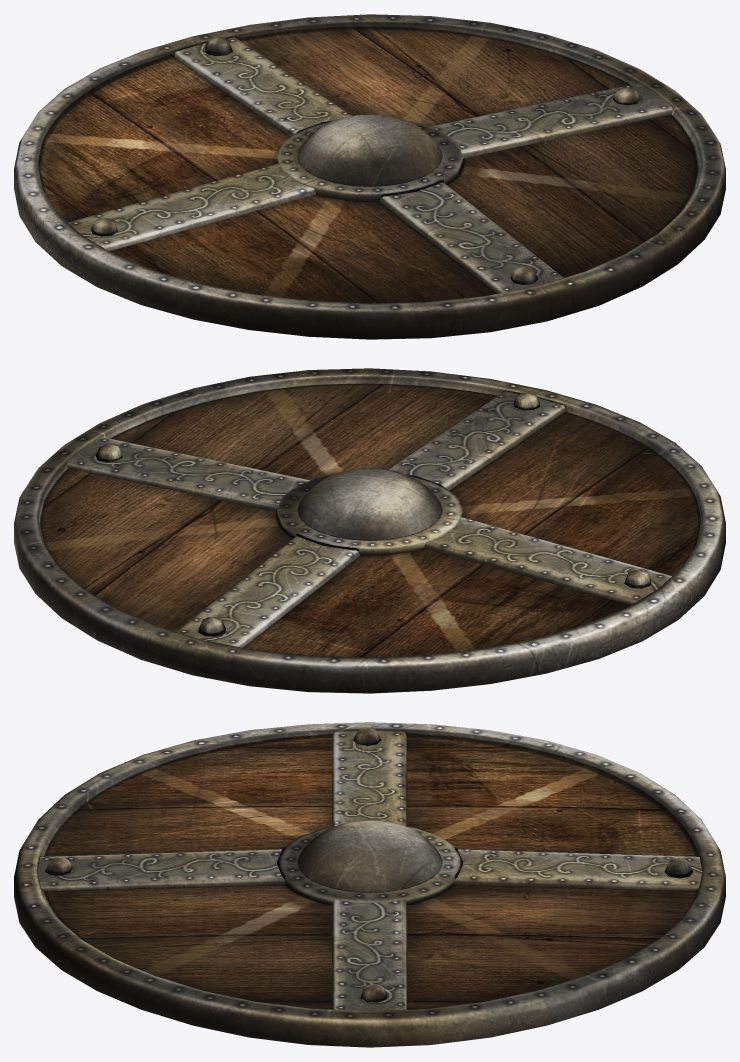
File: Targe_B.FBX
3 views of the same model, one above another, from view 1: azimuth 30°, elevation 25°; view 2: azimuth 150°, elevation 25°; view 3: azimuth 270°, elevation 25° (orthographic).
Visible parts, largest first — view 1: Targe_B; view 2: Targe_B; view 3: Targe_B.
Boxes of the visible parts, box(x1,y1,x2,y2) form: Targe_B: box(14, 14, 725, 339); Targe_B: box(14, 368, 725, 693); Targe_B: box(14, 722, 725, 1047).
Size of the model in its own units: 65.43 by 13.07 by 65.42.
